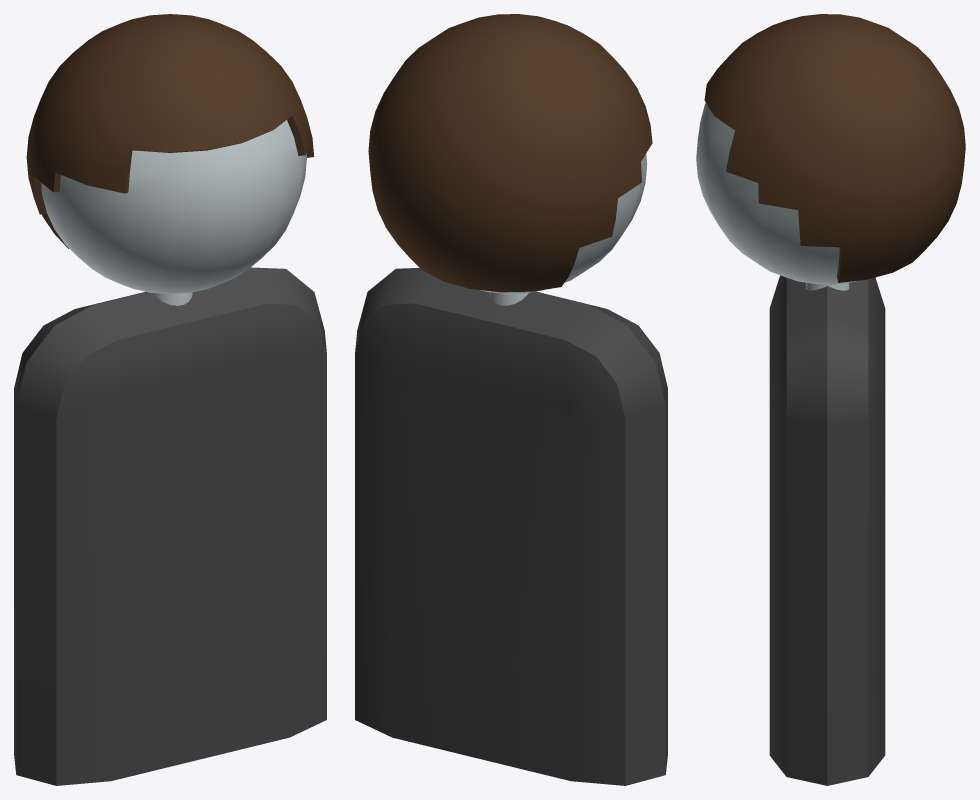
File: Player.fbx
3 views of the same model, side by side, from view 1: azimuth 30°, elevation 25°; view 2: azimuth 150°, elevation 25°; view 3: azimuth 270°, elevation 25° (orthographic). The views are drawn at different scales.
Visible parts, largest first — view 1: polySurface1; view 2: polySurface1; view 3: polySurface1.
Part boxes in pixels (left/top/right/bottom): polySurface1: left=14, top=14, right=326, bottom=785; polySurface1: left=355, top=14, right=667, bottom=785; polySurface1: left=696, top=14, right=965, bottom=785.
Size of the model in its own units: 2.86 by 6.29 by 2.24.
